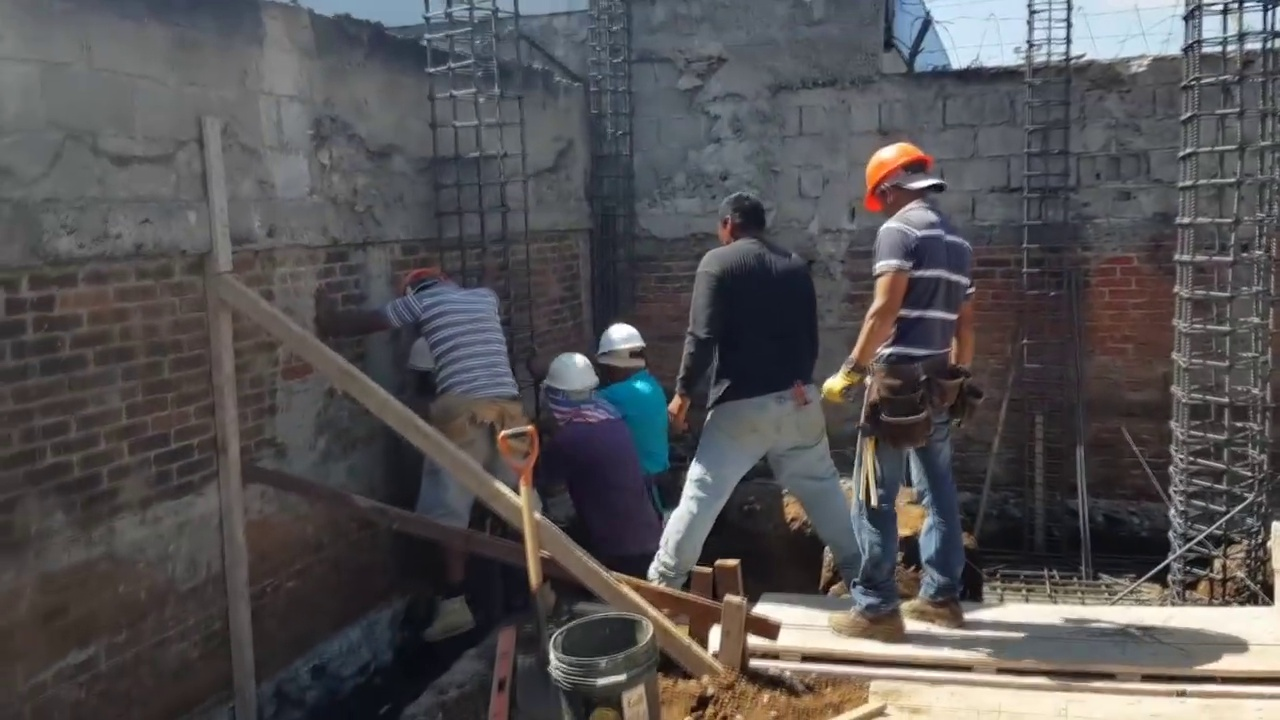helmet: (860, 141, 937, 211), (543, 351, 598, 395), (598, 322, 647, 368), (399, 263, 440, 291)
helmet-off: (718, 196, 767, 248)
helmet-on: (858, 142, 948, 221), (541, 351, 603, 419), (598, 322, 648, 386), (398, 263, 446, 298)
person: (653, 197, 866, 621), (834, 133, 976, 645), (374, 263, 522, 620), (527, 336, 655, 580), (598, 321, 671, 535)
